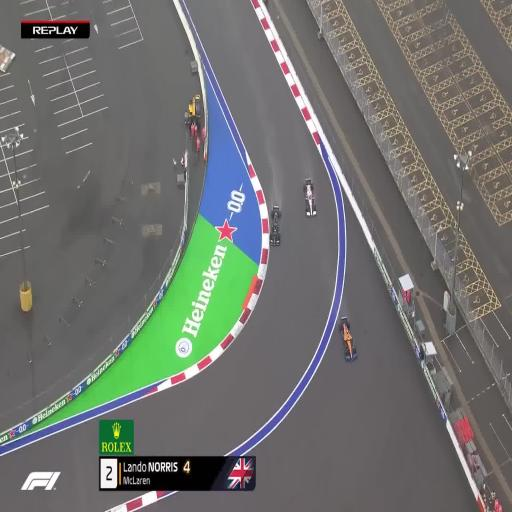f1_car: (339, 317, 357, 361), (185, 94, 201, 129), (303, 177, 317, 217), (269, 205, 281, 246)
